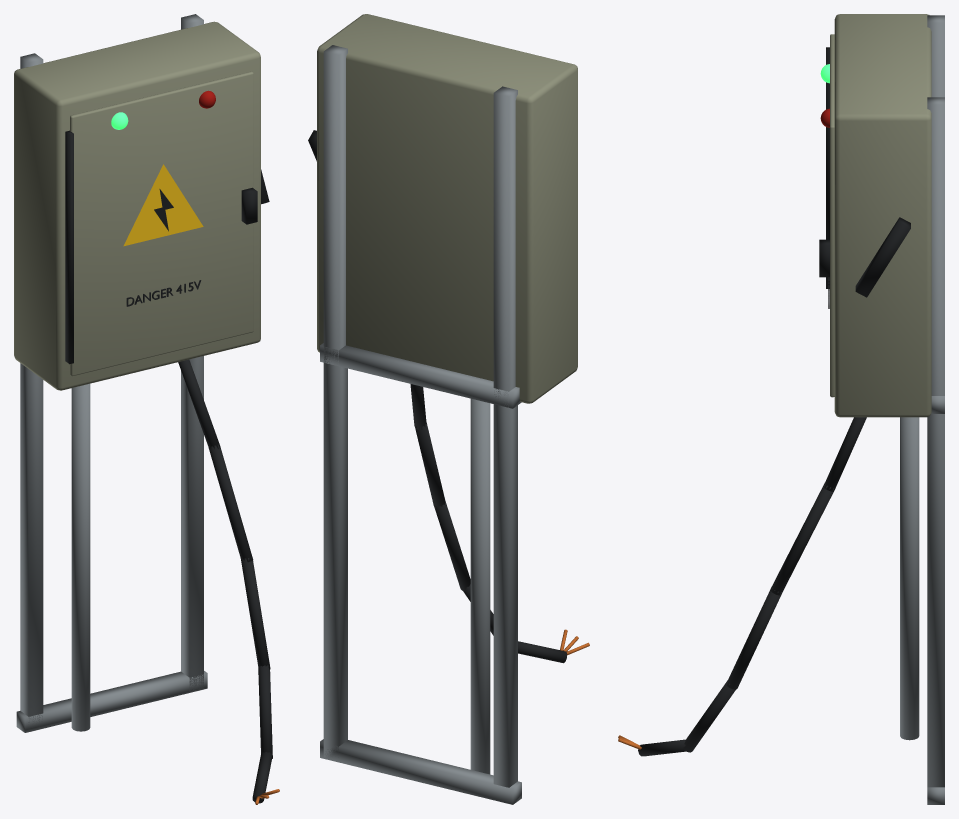
The model's file is flood_panel.glb.
3 views of the same model, side by side, from view 1: azimuth 30°, elevation 25°; view 2: azimuth 150°, elevation 25°; view 3: azimuth 270°, elevation 25° (orthographic). The views are drawn at different scales.
Visible parts, largest first — view 1: Panel_door, Panel_box, Panel_strut-0.22, Panel_strut+0.22, Panel_conduit, Panel_rail0.02, Panel_sign, Panel_hinge, Panel_cable1, Panel_cable2, Panel_cable0, Panel_cable3 (+2 smaller); view 2: Panel_box, Panel_strut+0.22, Panel_strut-0.22, Panel_conduit, Panel_rail0.02, Panel_rail1.0, Panel_cable2, Panel_cable1, Panel_cable4, Panel_cable0; view 3: Panel_box, Panel_strut+0.22, Panel_conduit, Panel_door, Panel_cable1, Panel_lever, Panel_cable2, Panel_strut-0.22, Panel_cable0, Panel_cable3, Panel_hinge, Panel_cable4.
Part boxes in pixels (left/top/right/bottom): Panel_door: left=70, top=71, right=253, bottom=376; Panel_box: left=14, top=21, right=260, bottom=390; Panel_strut-0.22: left=20, top=53, right=43, bottom=728; Panel_strut+0.22: left=181, top=14, right=203, bottom=692; Panel_conduit: left=71, top=383, right=90, bottom=731; Panel_rail0.02: left=16, top=671, right=207, bottom=732; Panel_sign: left=123, top=164, right=203, bottom=246; Panel_hinge: left=65, top=130, right=73, bottom=364; Panel_cable1: left=208, top=444, right=253, bottom=562; Panel_cable2: left=241, top=557, right=270, bottom=669; Panel_cable0: left=178, top=359, right=220, bottom=449; Panel_cable3: left=258, top=665, right=272, bottom=758; Panel_box: left=317, top=14, right=577, bottom=403; Panel_strut+0.22: left=323, top=45, right=347, bottom=759; Panel_strut-0.22: left=493, top=86, right=517, bottom=787; Panel_conduit: left=470, top=398, right=490, bottom=774; Panel_rail0.02: left=320, top=739, right=521, bottom=804; Panel_rail1.0: left=320, top=343, right=521, bottom=408; Panel_cable2: left=433, top=502, right=470, bottom=591; Panel_cable1: left=414, top=423, right=445, bottom=508; Panel_cable4: left=518, top=641, right=567, bottom=663; Panel_cable0: left=410, top=384, right=426, bottom=429; Panel_box: left=834, top=14, right=931, bottom=417; Panel_strut+0.22: left=927, top=97, right=944, bottom=787; Panel_conduit: left=900, top=417, right=919, bottom=740; Panel_door: left=830, top=34, right=834, bottom=397; Panel_cable1: left=770, top=483, right=835, bottom=595; Panel_lever: left=855, top=217, right=910, bottom=297; Panel_cable2: left=726, top=586, right=781, bottom=689; Panel_strut-0.22: left=927, top=15, right=944, bottom=97; Panel_cable0: left=823, top=417, right=866, bottom=491; Panel_cable3: left=683, top=680, right=735, bottom=752; Panel_hinge: left=826, top=47, right=829, bottom=288; Panel_cable4: left=638, top=739, right=685, bottom=756.
Bounding box in the file's own units: 0.605 × 1.75 × 0.7422.
